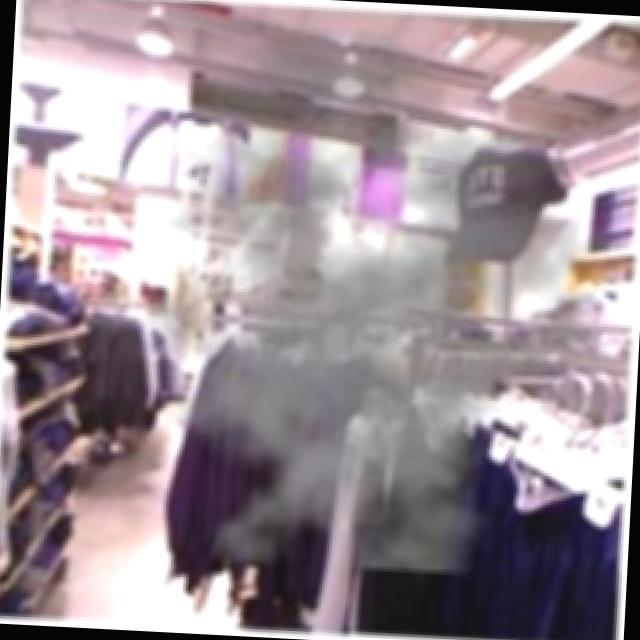smoke: (186, 160, 502, 558)
